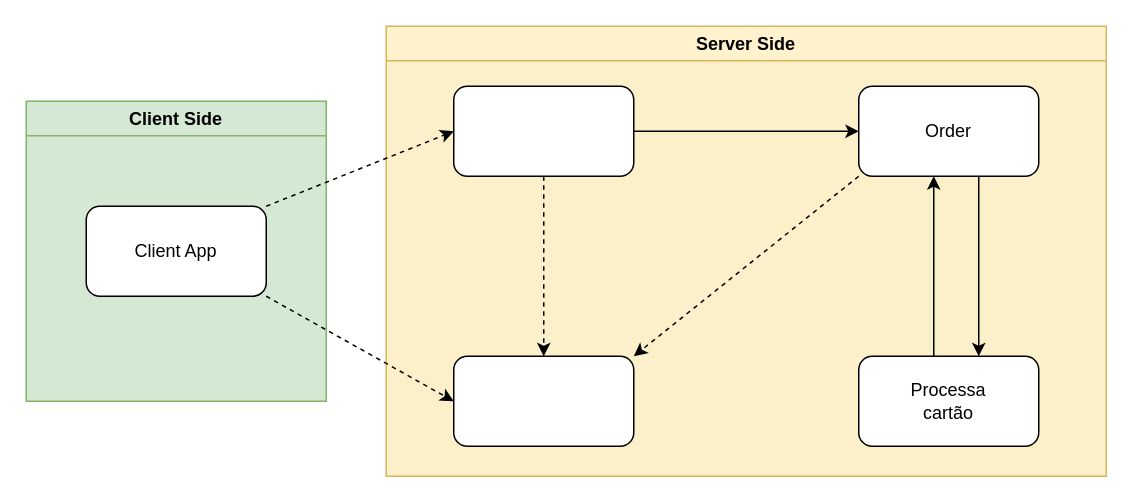
Image size: 1133x503. Some labels were removed from this diagram. Each missing label, with the centre of its shape:
Checkout: [543,130]
Produtos: [543,400]
